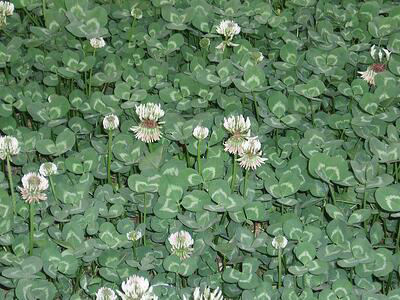clover: (4, 4, 397, 298)
